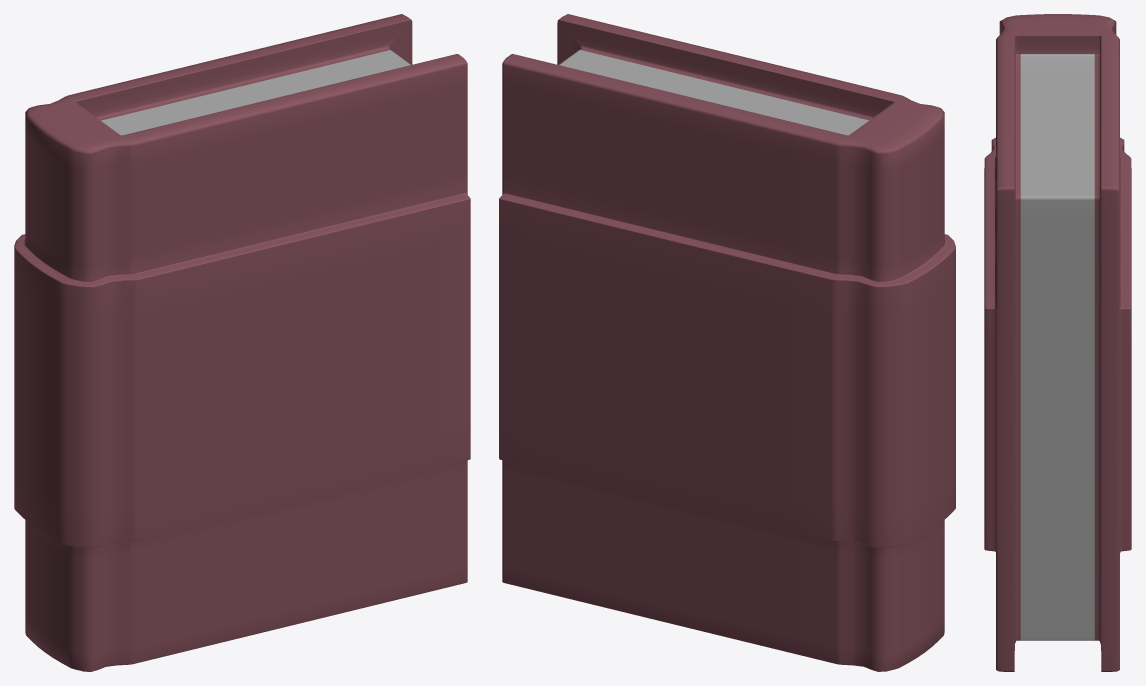
The model's file is Book2.fbx.
3 views of the same model, side by side, from view 1: azimuth 30°, elevation 25°; view 2: azimuth 150°, elevation 25°; view 3: azimuth 270°, elevation 25° (orthographic). The views are drawn at different scales.
Parts seen in each view (by area): view 1: pCube58; view 2: pCube58; view 3: pCube58.
Boxes of the visible parts, x1,y1,x2,y2 form: pCube58: (14,14,470,671); pCube58: (499,14,955,671); pCube58: (984,14,1131,671).
Size of the model in its own units: 3.56 by 4.43 by 1.22.
